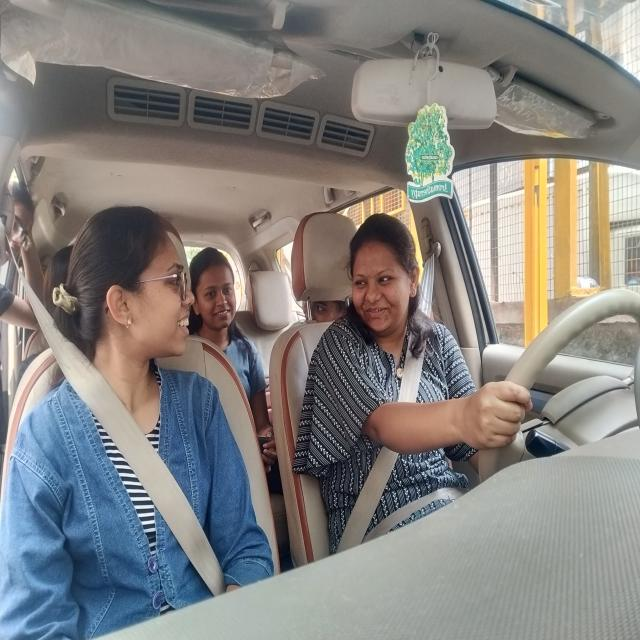LeftRight: (342, 196, 423, 338)
person: (97, 210, 210, 362), (194, 248, 242, 333)
talking: (363, 299, 393, 320)
